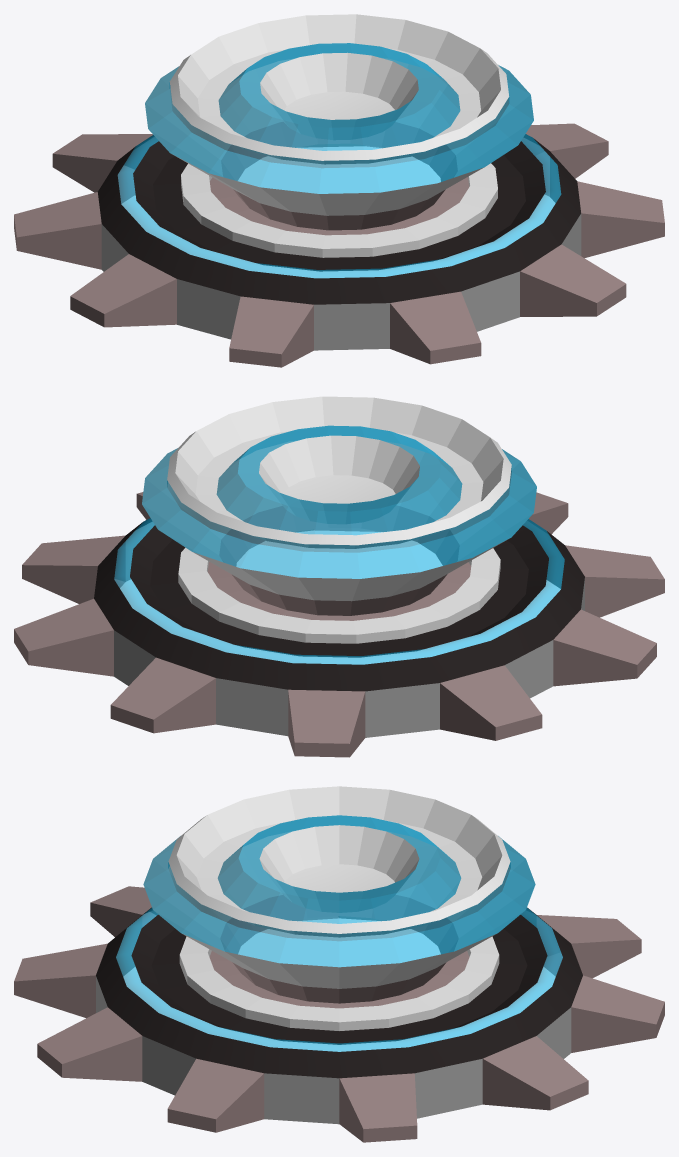
File: MainFountainCentrePiece.fbx
3 renders of one model, top to bottom at view 1: azimuth 30°, elevation 25°; view 2: azimuth 150°, elevation 25°; view 3: azimuth 270°, elevation 25°, orthographic.
Visible parts, largest first — view 1: Fountain; view 2: Fountain; view 3: Fountain.
Part boxes in pixels (left/top/right/bottom): Fountain: left=14, top=14, right=664, bottom=367; Fountain: left=14, top=396, right=664, bottom=757; Fountain: left=14, top=786, right=664, bottom=1142.
Size of the model in its own units: 7.2 by 7.2 by 2.03.
